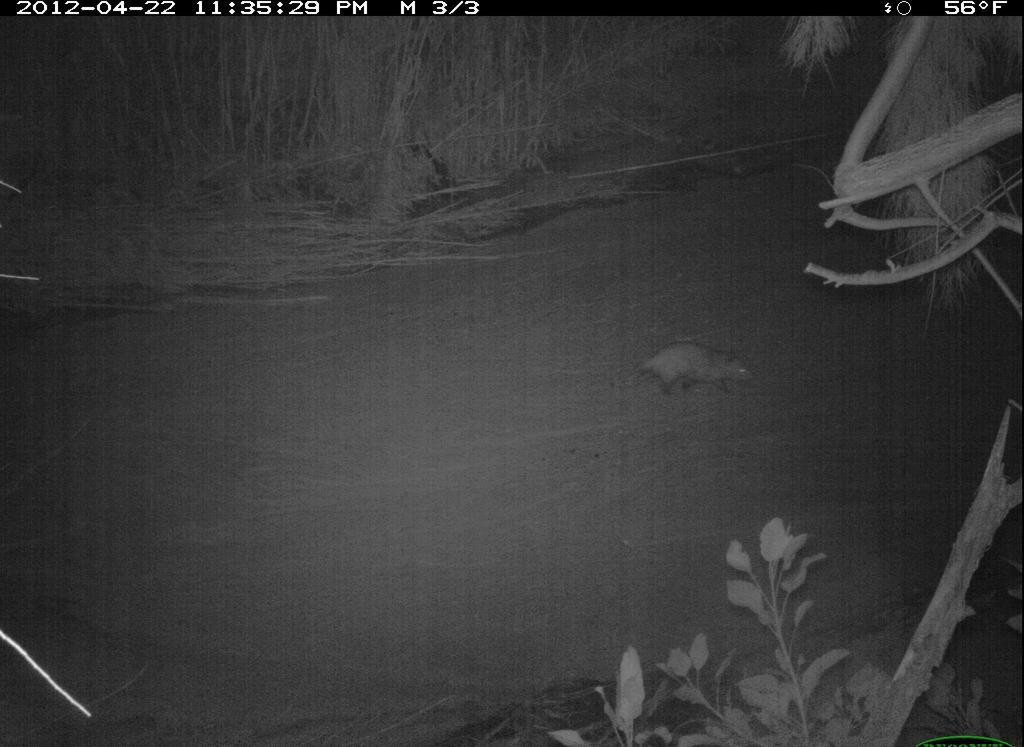opossum: (602, 328, 771, 408)
